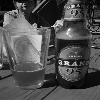beer: (4, 28, 53, 94)
